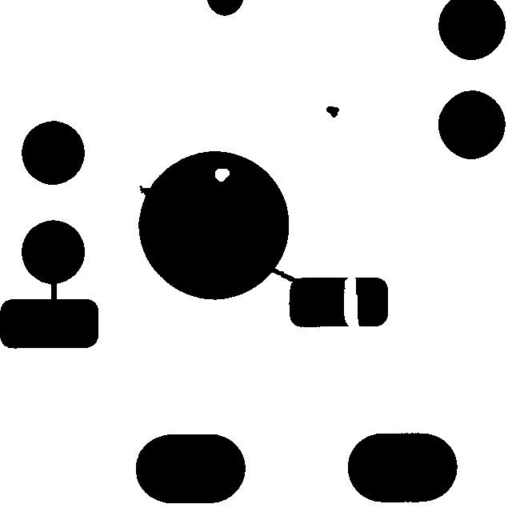copper: (318, 98, 346, 125)
open: (336, 264, 366, 338)
pin-hole: (207, 161, 237, 189)
short: (258, 257, 307, 290), (42, 271, 64, 309)
spur: (131, 178, 158, 202)
